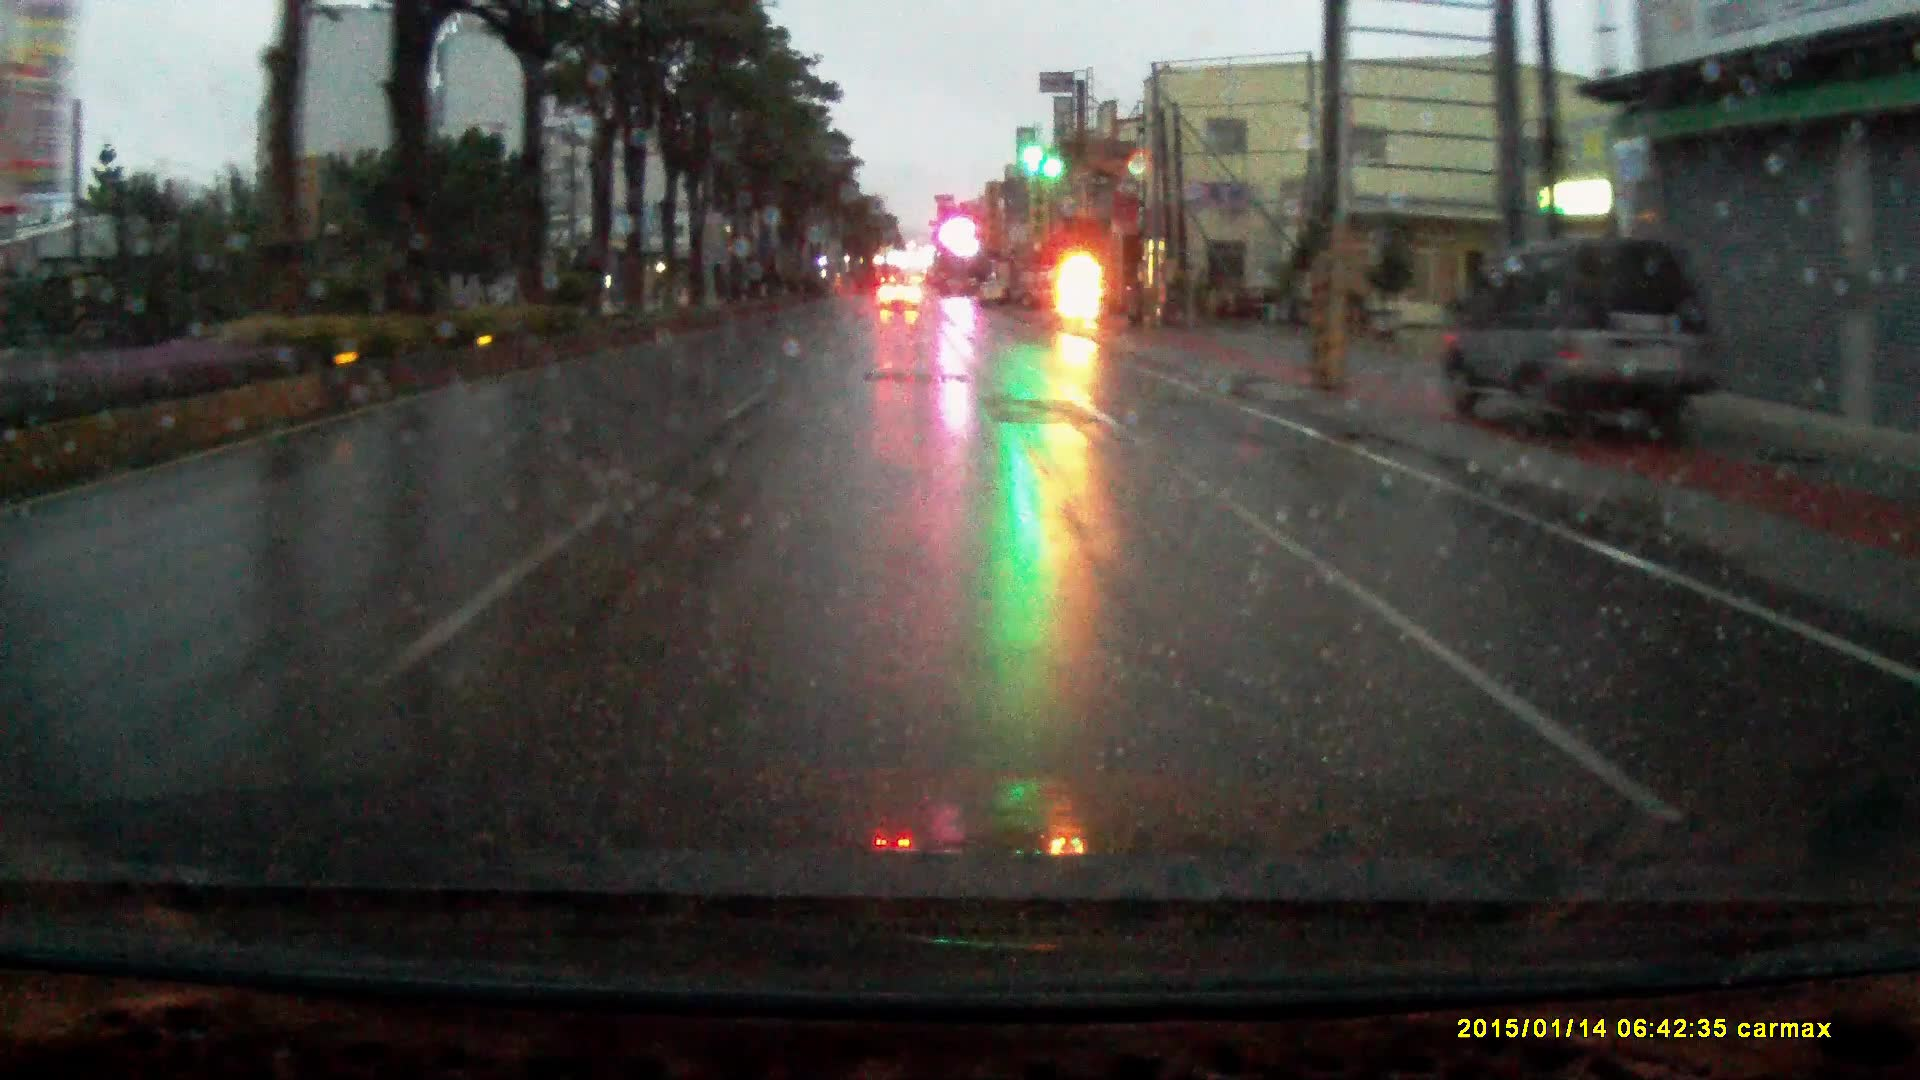vehicle: (1455, 231, 1724, 450), (1010, 287, 1071, 328), (877, 282, 923, 316)
